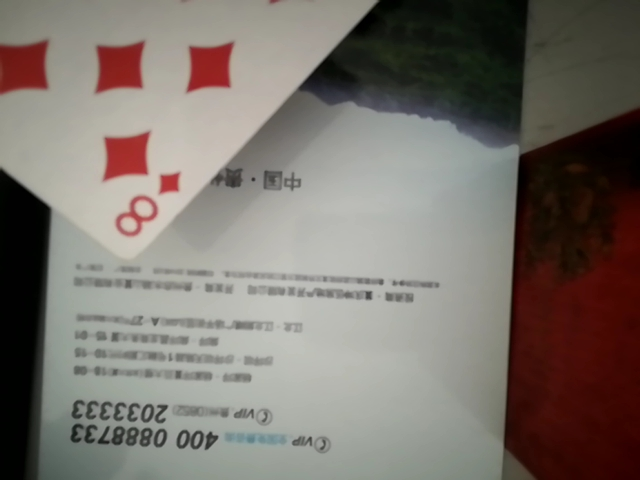fk 8: (3, 0, 393, 290)
